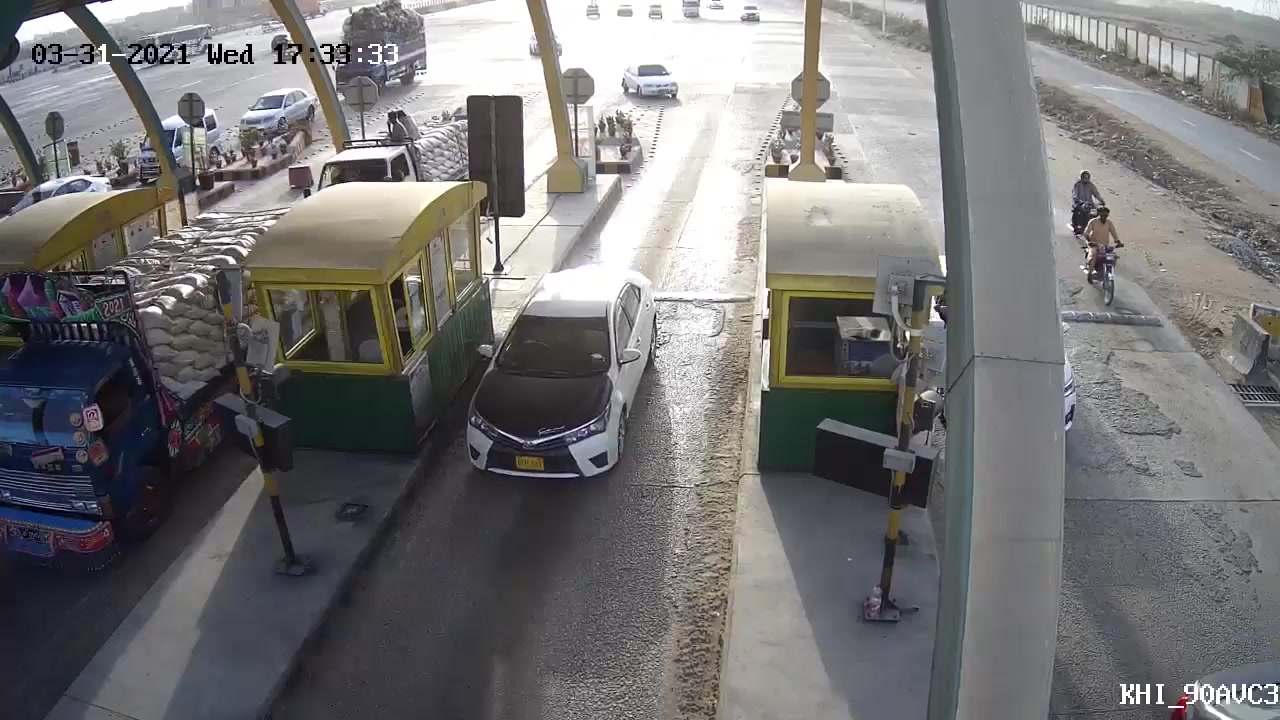F1: (466, 260, 659, 496)
